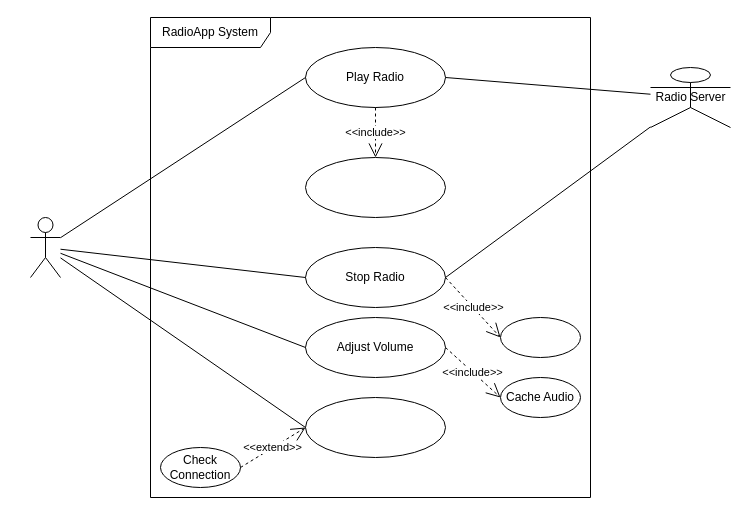
Image size: 748x515. Some labels were removed from this diagram. Here are the shapes that lost their labels. From the top down, the centre of each, then its label:
At point 375,187: "Auto-reconnect".
At point 45,247: "Rural User".
At point 540,337: "Compress Audio".
At point 375,427: "View Data Usage".
